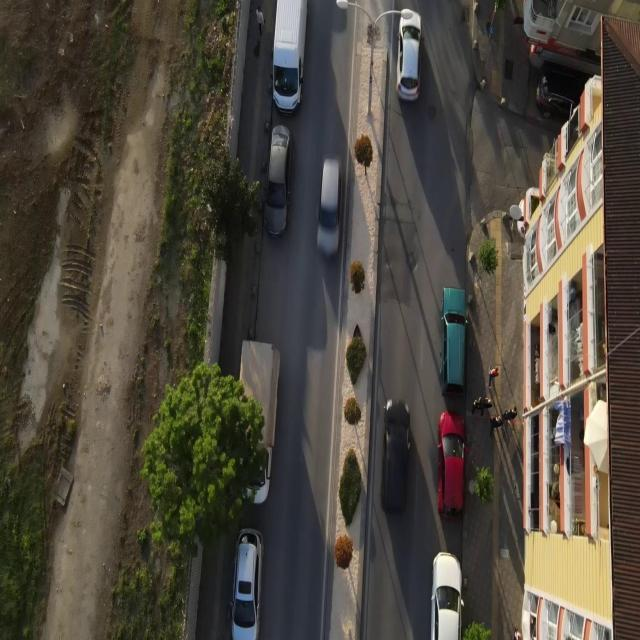p3rson: (255, 4, 266, 38), (487, 364, 500, 389), (489, 414, 503, 437), (502, 404, 517, 424), (480, 397, 493, 417), (470, 396, 482, 416)
